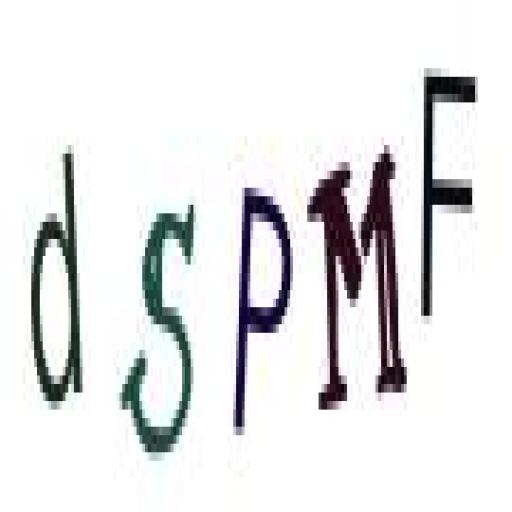F: (420, 58, 478, 338)
M: (304, 147, 414, 417)
P: (233, 163, 298, 439)
S: (119, 186, 199, 462)
d: (22, 132, 90, 428)
